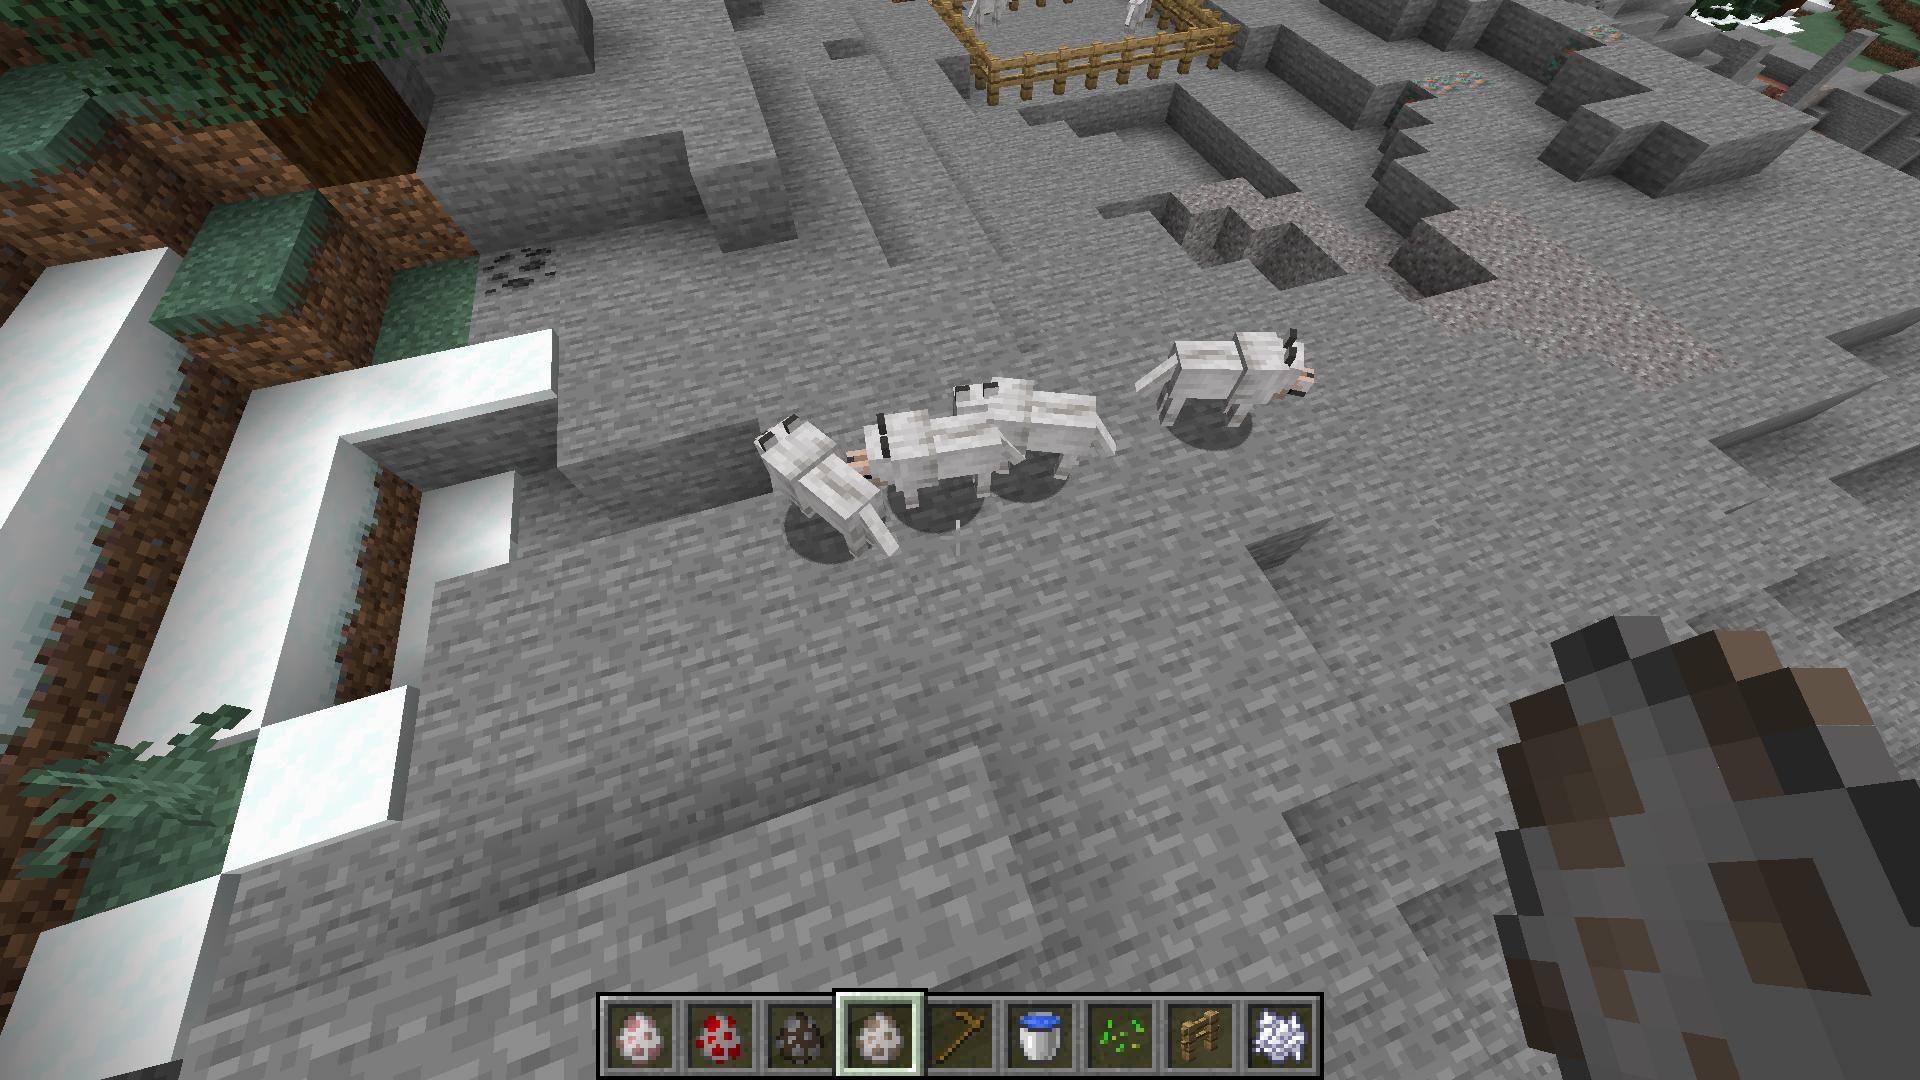wolf: (754, 410, 903, 570), (1133, 327, 1321, 442), (949, 372, 1124, 484), (844, 406, 1027, 512)
